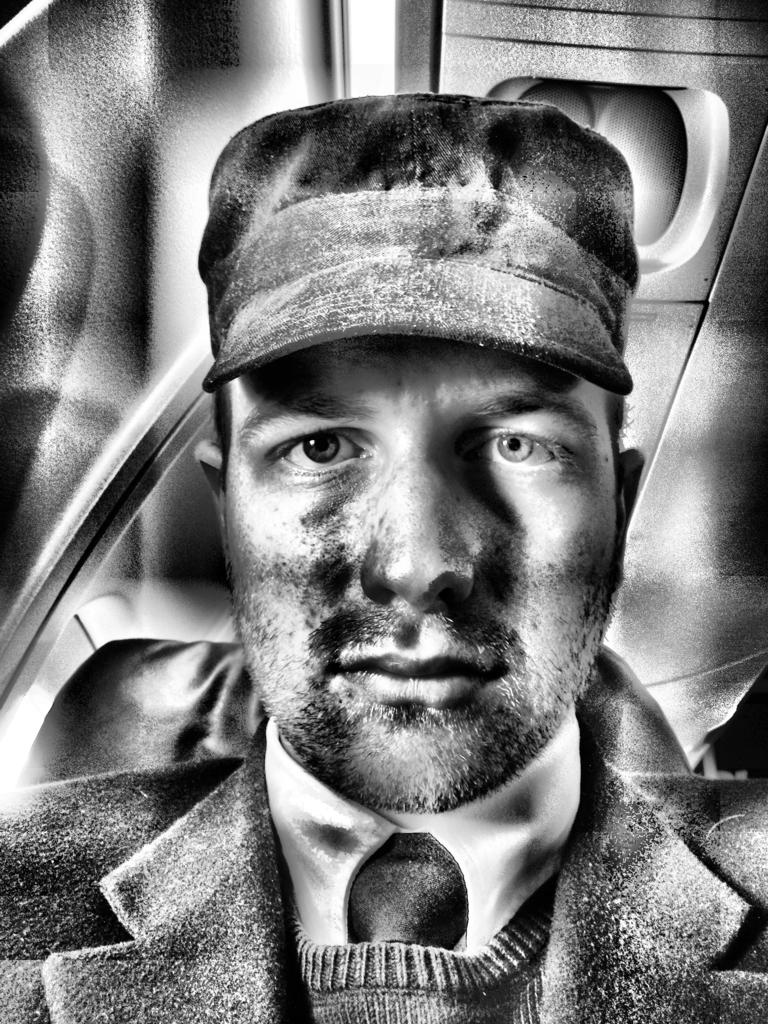Hat: (196, 86, 638, 392)
